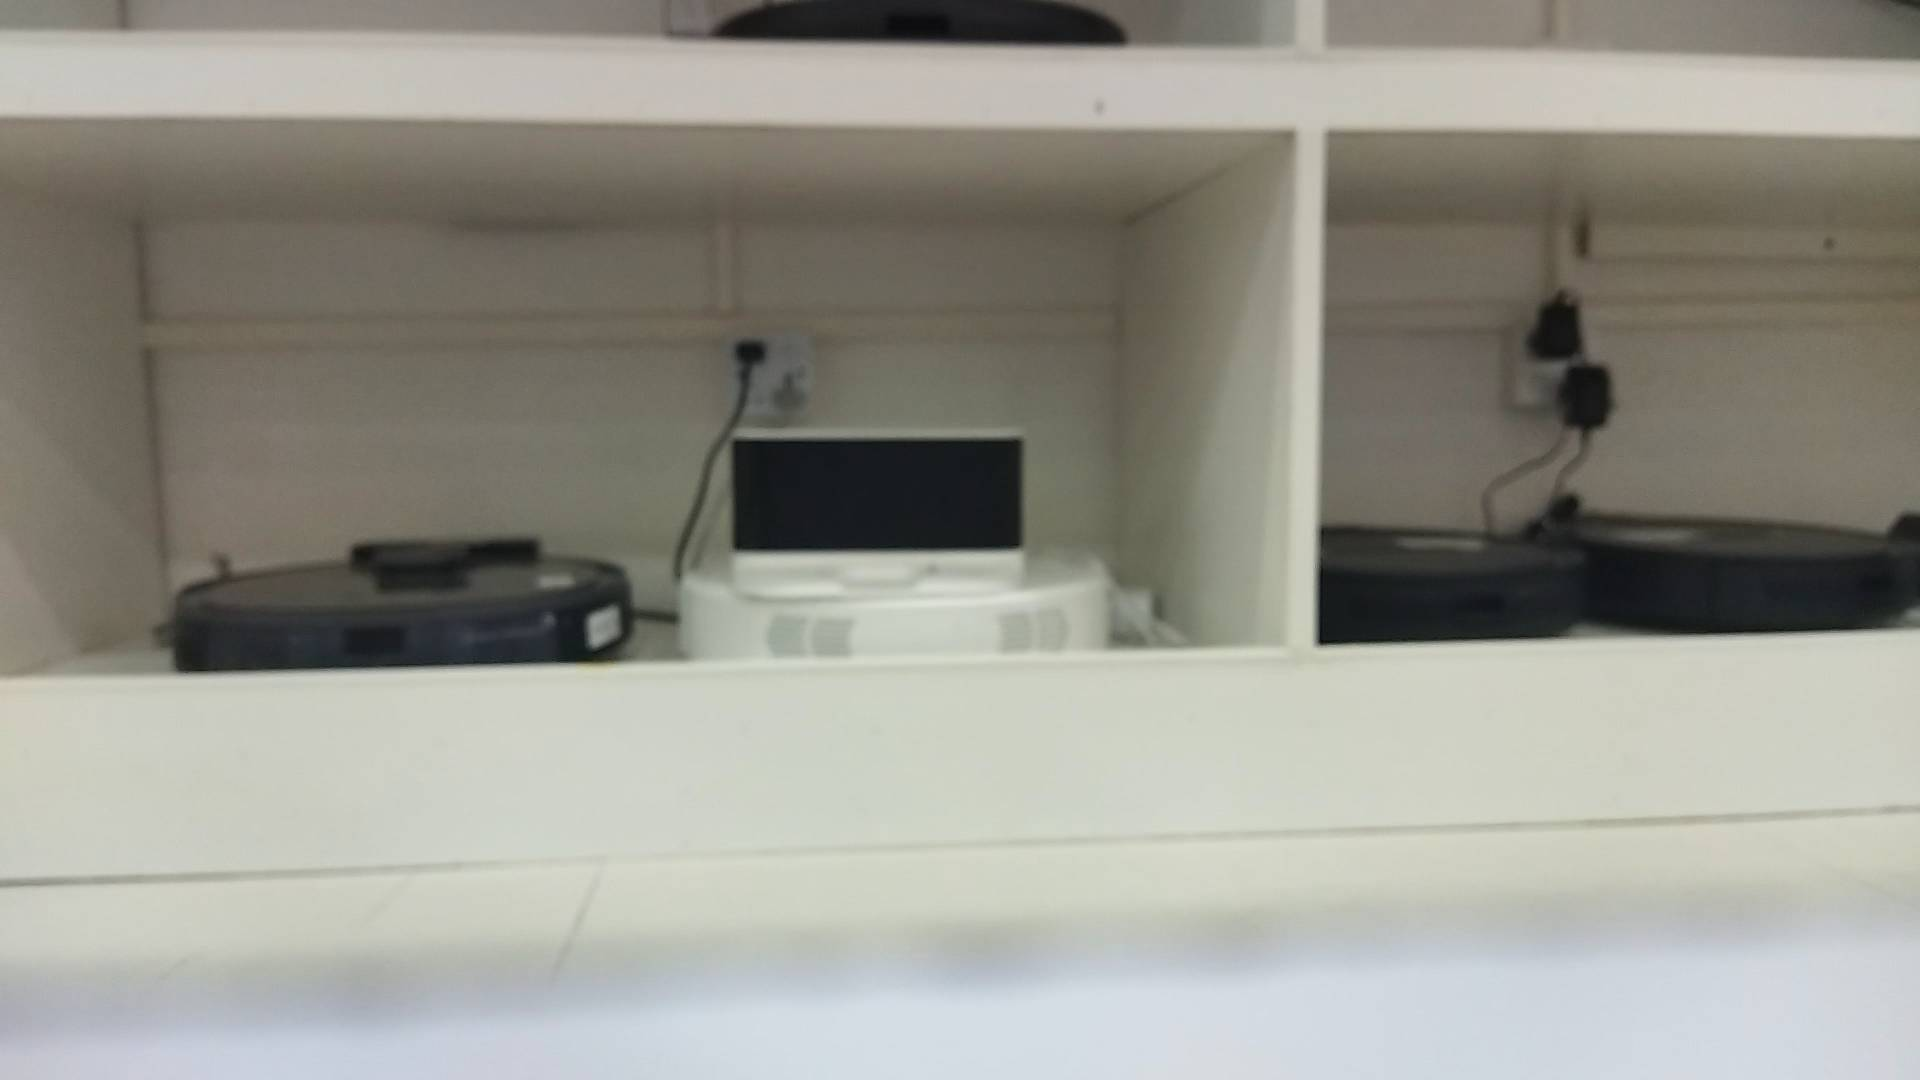recharge seat: (731, 423, 1029, 601)
